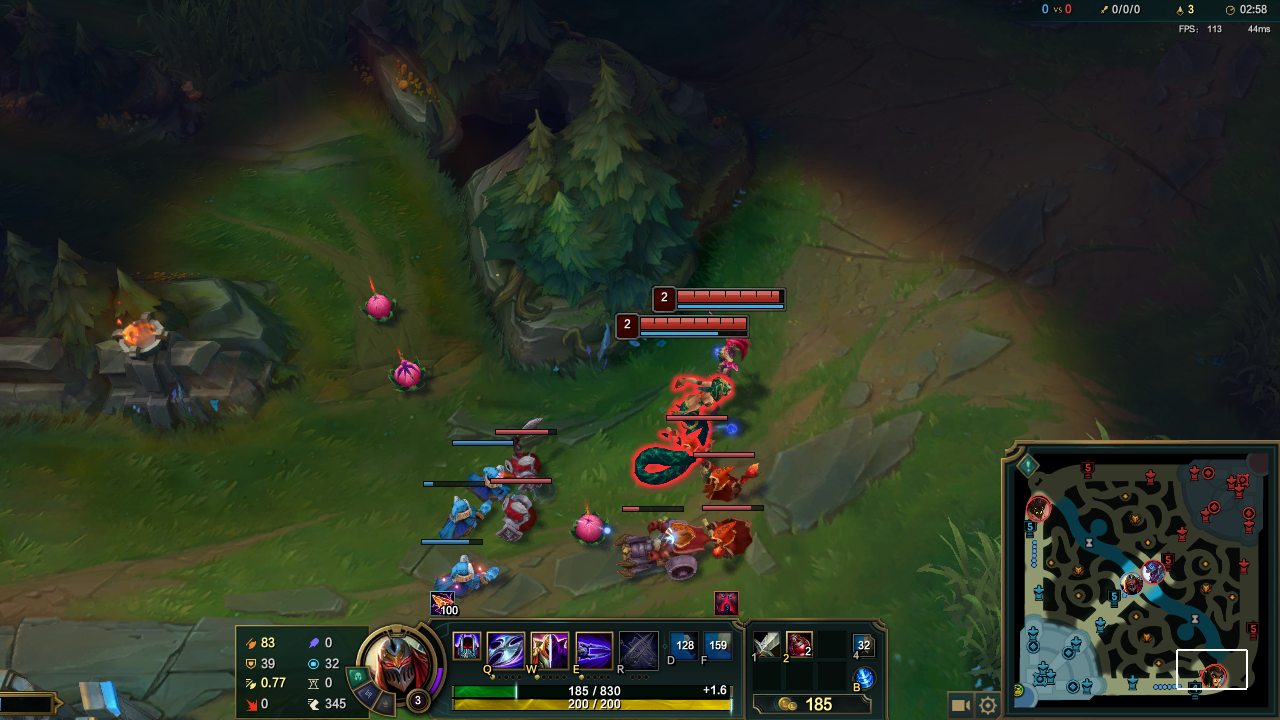DFYX: (677, 290, 786, 303), (638, 317, 745, 328)
